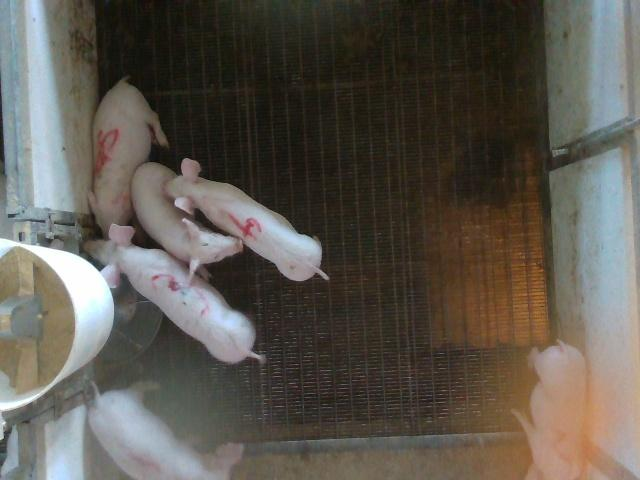pig-1: (88, 389, 214, 479)
pig-2: (512, 341, 586, 479)
pig-3: (85, 224, 264, 363)
pig-4: (165, 161, 329, 281)
pig-5: (89, 78, 168, 236)
